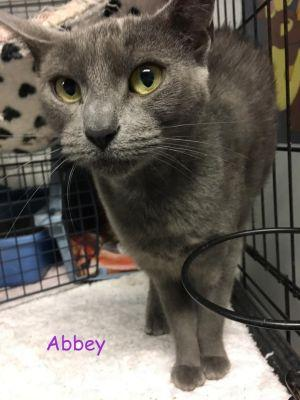rblue: (8, 1, 225, 201)
